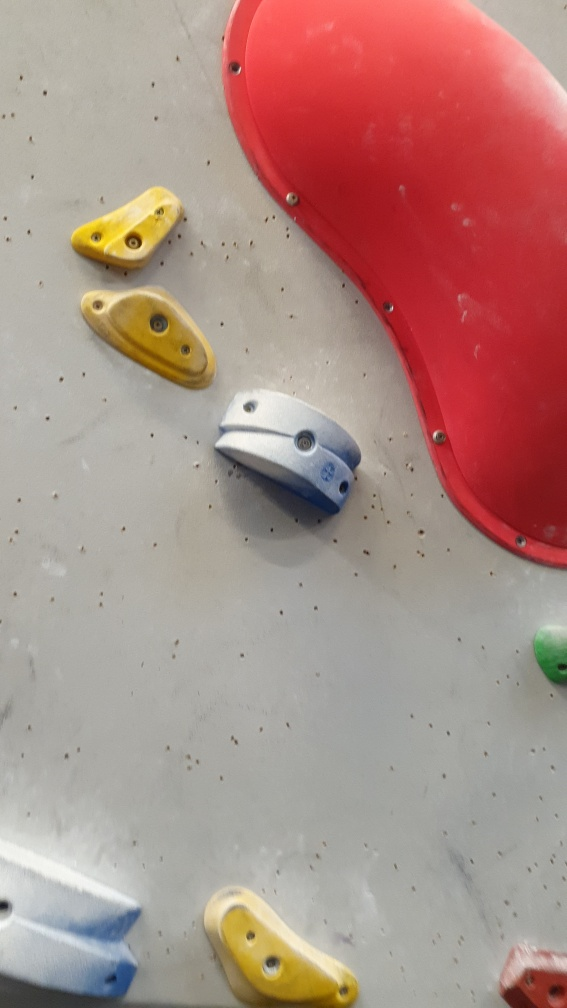Crimp: (214, 897, 343, 1005), (110, 291, 211, 381), (105, 198, 186, 273)
Pinch: (1, 843, 145, 1002), (215, 389, 368, 522)
